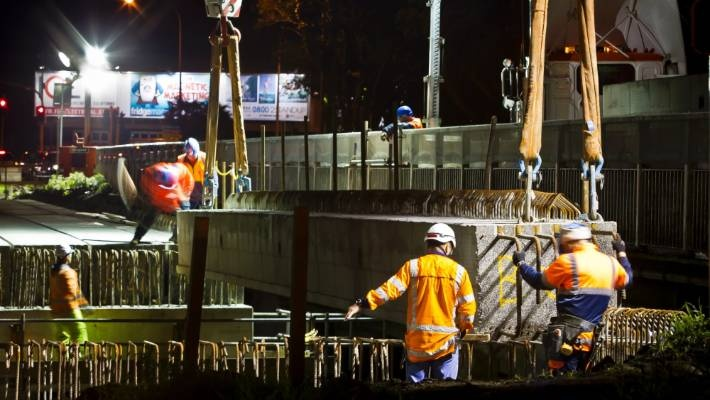blue: (156, 164, 180, 191), (183, 138, 200, 161), (397, 104, 412, 122)
white: (424, 220, 456, 257), (559, 220, 594, 253), (54, 241, 74, 264)
